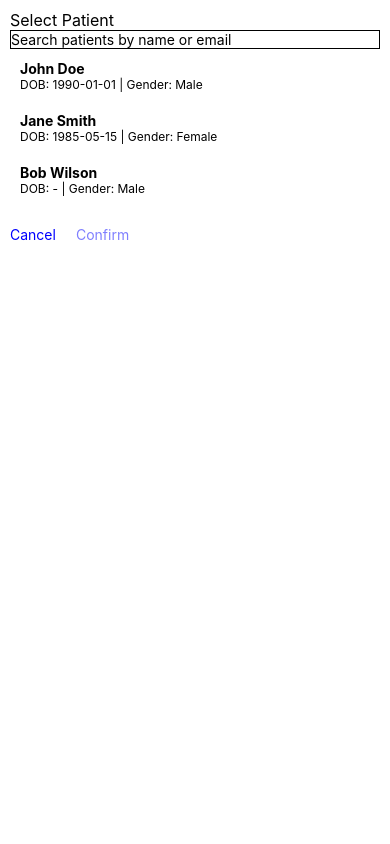
Test case: PatientSelectModal › Search functionality › should be case insensitive
Expected: the text "John Doe" is shown, [20, 60, 85, 77]
In the field with placeholder "Search patients by name or email": (195,40) [10, 30, 380, 49], type "JOHN"
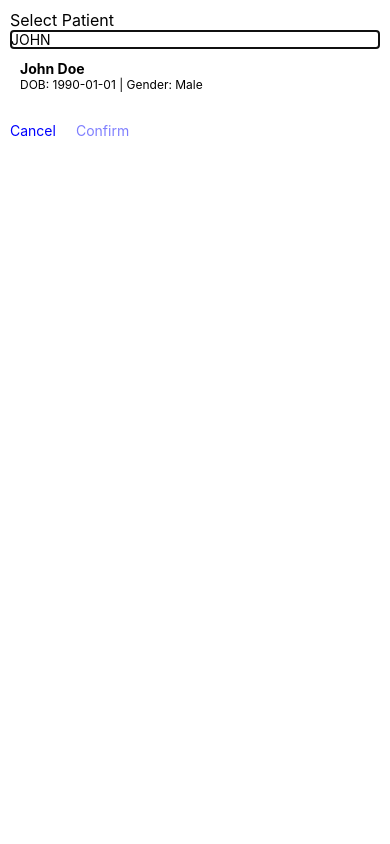
Expected: the text "John Doe" is shown, [20, 60, 85, 77]
Expected: the text "Jane Smith" is gone
